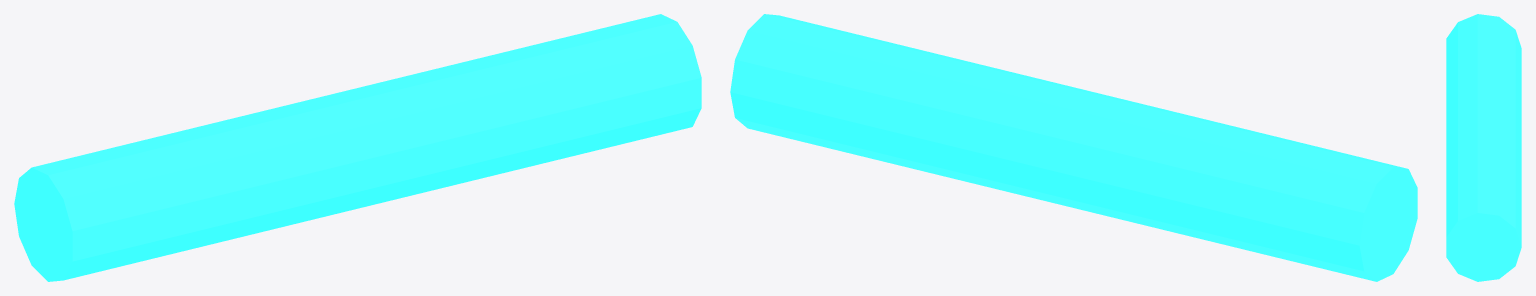
Rendered from LaserBullet.fbx.
3 renders of one model, left to right at view 1: azimuth 30°, elevation 25°; view 2: azimuth 150°, elevation 25°; view 3: azimuth 270°, elevation 25°, orthographic. The views are drawn at different scales.
Visible parts, largest first — view 1: Cylinder; view 2: Cylinder; view 3: Cylinder.
Boxes of the visible parts, x1,y1,x2,y2 form: Cylinder: [14, 14, 701, 281]; Cylinder: [730, 14, 1417, 281]; Cylinder: [1446, 14, 1521, 281].
Bounding box in the file's own units: 259 × 42 × 41.57.
